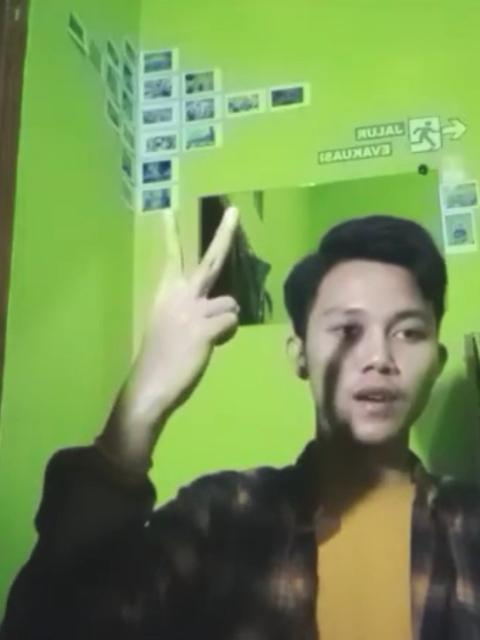V: (100, 196, 250, 422)
